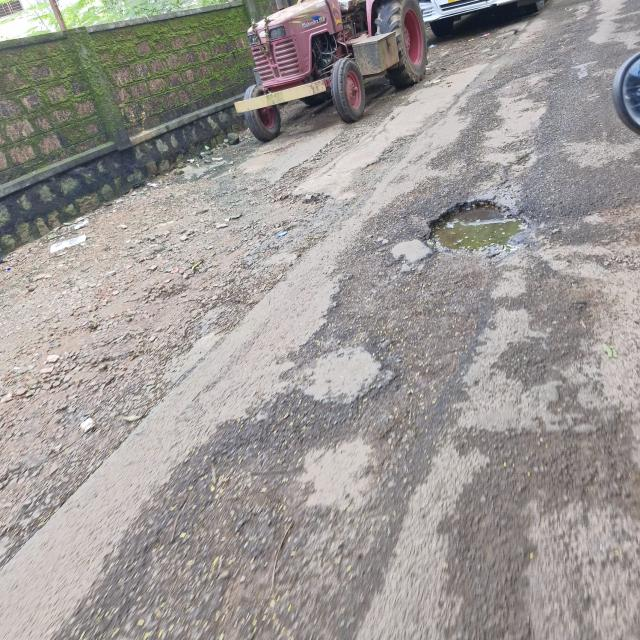pothole: (415, 181, 536, 270)
